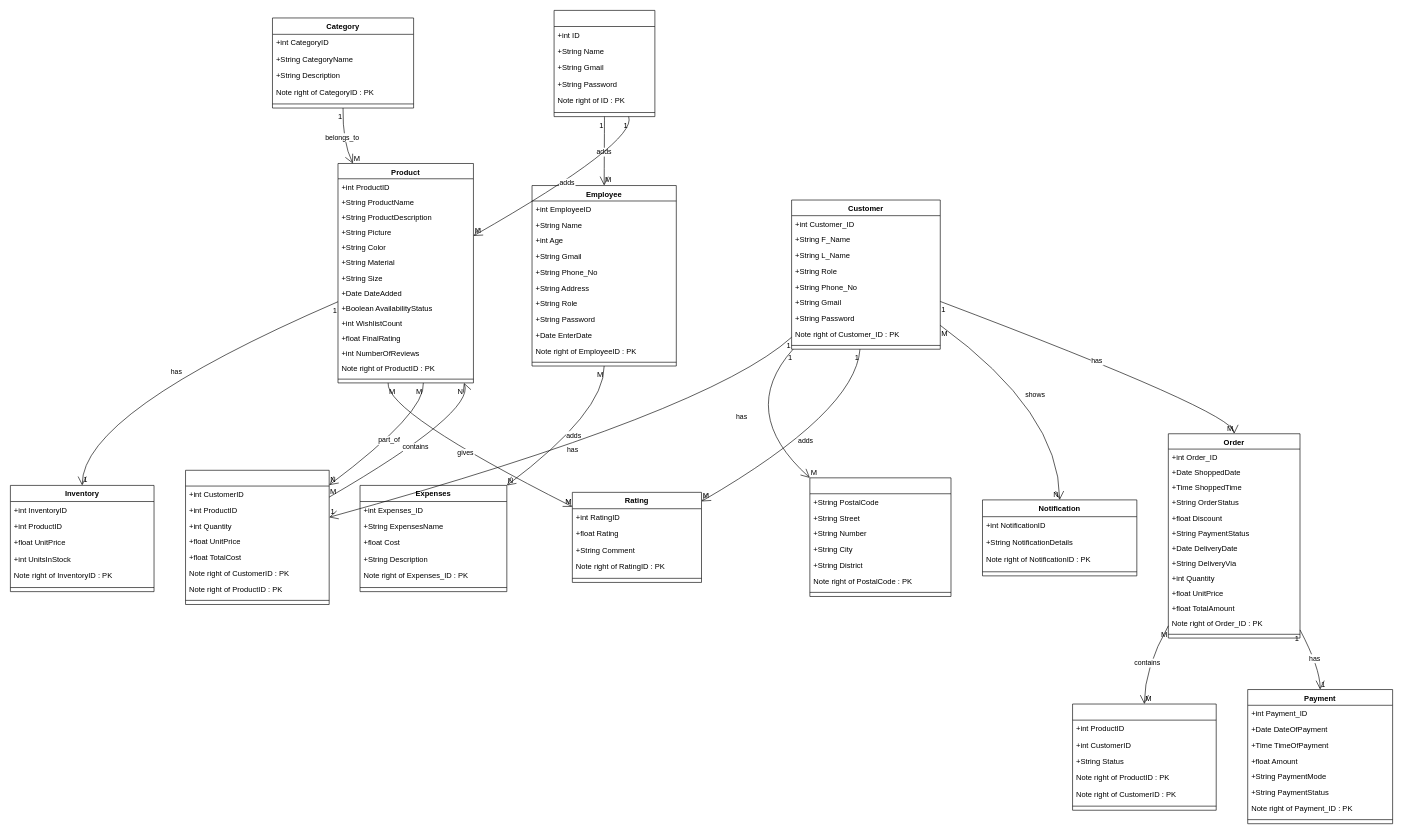
This 1403x834 diagram has some shape labels left out. Here are the shapes that lost their labels. From the top down, the box of each, then its label:
(553, 10, 655, 117): Admin
(185, 470, 329, 604): Cart
(809, 477, 951, 596): Address
(1072, 703, 1216, 810): Favourite
